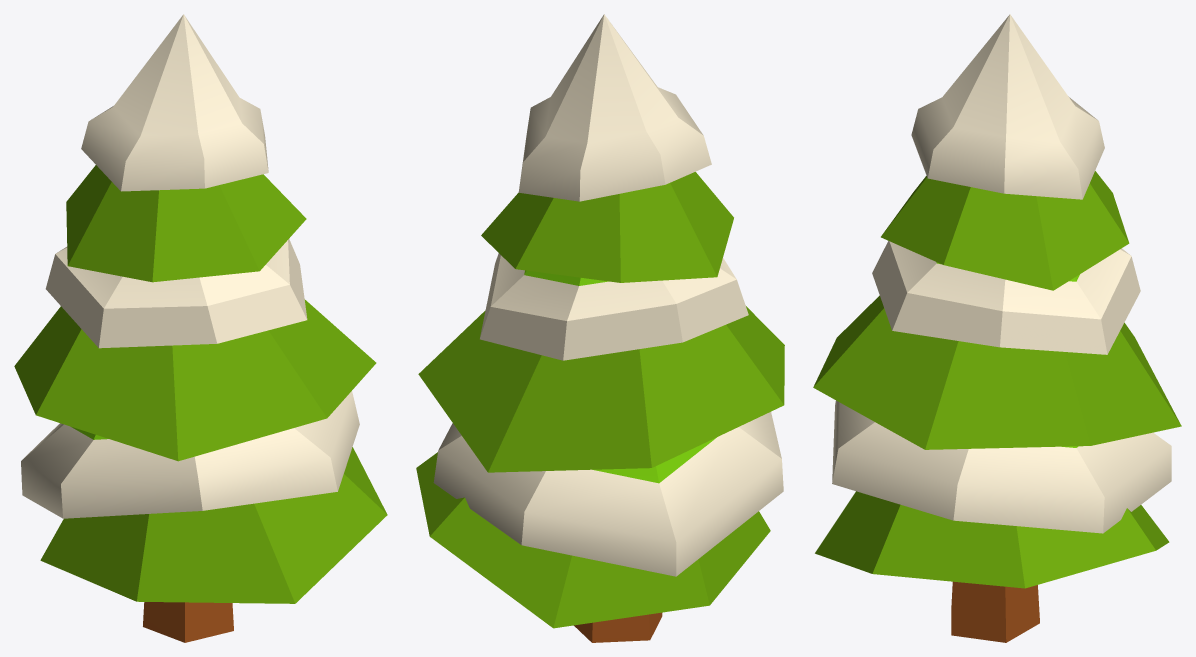
The model's file is Tree_23_Winter.fbx.
The picture shows the model from 3 angles, left to right: view 1: azimuth 30°, elevation 25°; view 2: azimuth 150°, elevation 25°; view 3: azimuth 270°, elevation 25°; orthographic projection. The views are drawn at different scales.
Parts seen in each view (by area): view 1: Tree_23_p2_Winter, Tree_23_p1_Winter; view 2: Tree_23_p2_Winter, Tree_23_p1_Winter; view 3: Tree_23_p2_Winter, Tree_23_p1_Winter.
Boxes of the visible parts, bbox=[...] form: Tree_23_p2_Winter: bbox=[14, 14, 387, 603]; Tree_23_p1_Winter: bbox=[143, 602, 233, 642]; Tree_23_p2_Winter: bbox=[416, 14, 784, 628]; Tree_23_p1_Winter: bbox=[574, 612, 662, 642]; Tree_23_p2_Winter: bbox=[813, 14, 1181, 588]; Tree_23_p1_Winter: bbox=[951, 581, 1039, 642].
Bounding box in the file's own units: 198 × 337 × 184.
